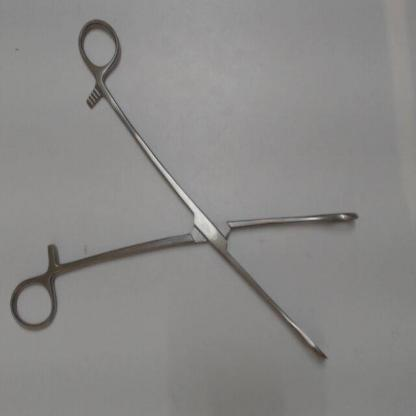Sponge Forceps: (4, 8, 370, 372)
